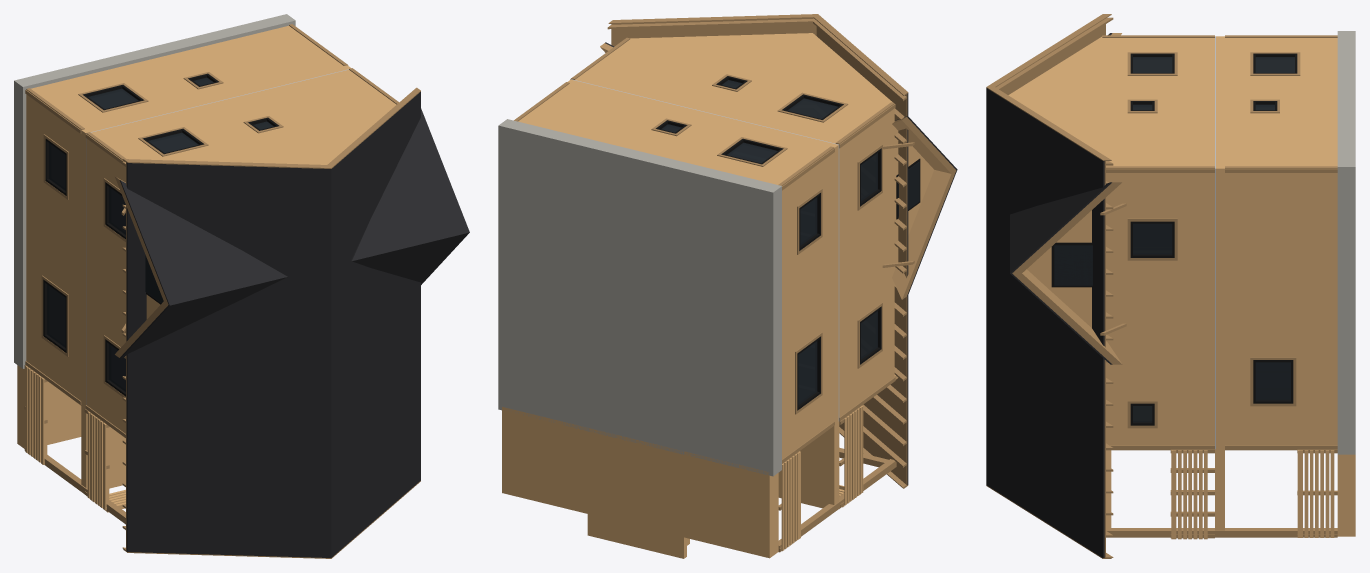
File: cabin-2floor-3br-120_3d.obj
3 renders of one model, left to right at view 1: azimuth 30°, elevation 25°; view 2: azimuth 150°, elevation 25°; view 3: azimuth 270°, elevation 25°, orthographic. The views are drawn at different scales.
Parts seen in each view (by area): view 1: roof_tiles, wood, trim, slab, glass, frame, sheathing, ceiling; view 2: wood, slab, sheathing, trim, glass, rafters, frame, roof_tiles, ceiling; view 3: wood, roof_tiles, trim, slab, glass, sheathing, frame, rafters.
Boxes of the visible parts, x1,y1,x2,y2 form: roof_tiles: (119,92,469,557); wood: (17,25,396,512); trim: (24,24,420,558); slab: (14,14,295,368); glass: (47,77,273,391); frame: (43,73,278,396); sheathing: (115,162,168,550); ceiling: (86,69,348,404); wood: (502,33,933,558); slab: (498,119,781,476); sheathing: (600,18,956,485); trim: (514,14,914,552); glass: (661,80,919,405); rafters: (607,18,906,488); frame: (656,76,920,410); roof_tiles: (605,42,957,484); ceiling: (571,79,839,421); wood: (1008,36,1355,539); roof_tiles: (986,33,1112,557); trim: (986,14,1337,558); slab: (1337,31,1355,454); glass: (1054,57,1294,422); sheathing: (1000,24,1122,557); frame: (1051,53,1297,425); rafters: (996,17,1113,557).
Size of the model in its own units: 890 by 1112 by 919.
